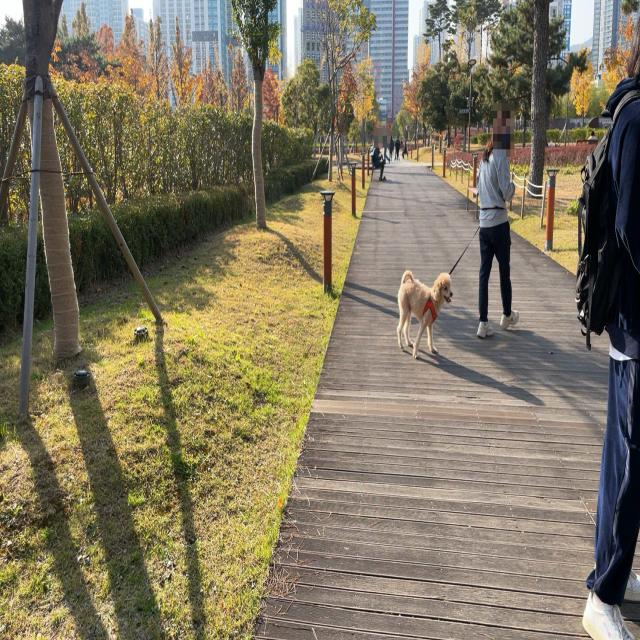Leashed_Dog: (396, 216, 490, 361)
